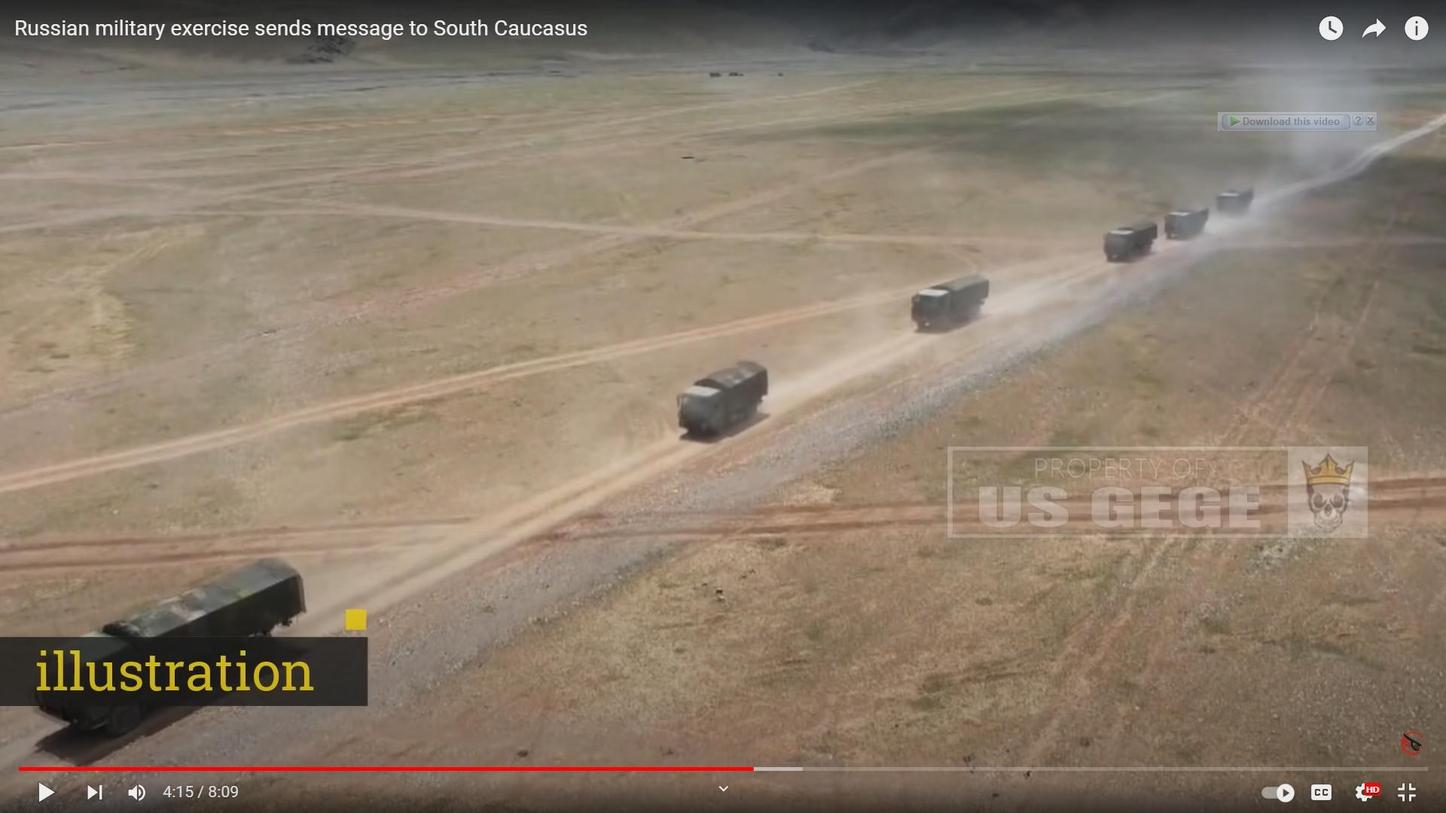truck: (37, 553, 309, 755), (674, 351, 770, 444), (903, 269, 996, 336), (1104, 213, 1158, 267)
